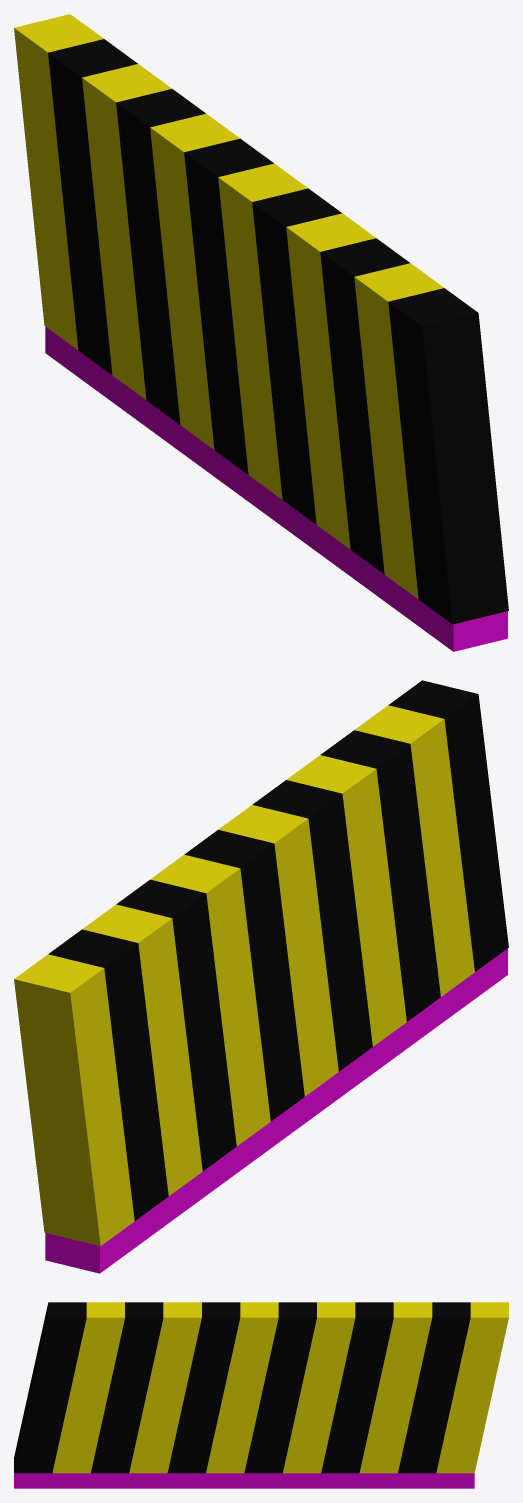
The model's file is VoidBlockade.fbx.
3 views of the same model, one above another, from view 1: azimuth 30°, elevation 25°; view 2: azimuth 150°, elevation 25°; view 3: azimuth 270°, elevation 25° (orthographic). The views are drawn at different scales.
Parts seen in each view (by area): view 1: Cube, Cube.001; view 2: Cube, Cube.001; view 3: Cube, Cube.001.
Part boxes in pixels (x1=…): Cube: x1=14, y1=14, x2=508, y2=624; Cube.001: x1=45, y1=326, x2=507, y2=651; Cube: x1=14, y1=680, x2=508, y2=1246; Cube.001: x1=45, y1=948, x2=507, y2=1273; Cube: x1=14, y1=1302, x2=508, y2=1473; Cube.001: x1=14, y1=1473, x2=474, y2=1488.
Size of the model in its own units: 42.74 by 220 by 577.
